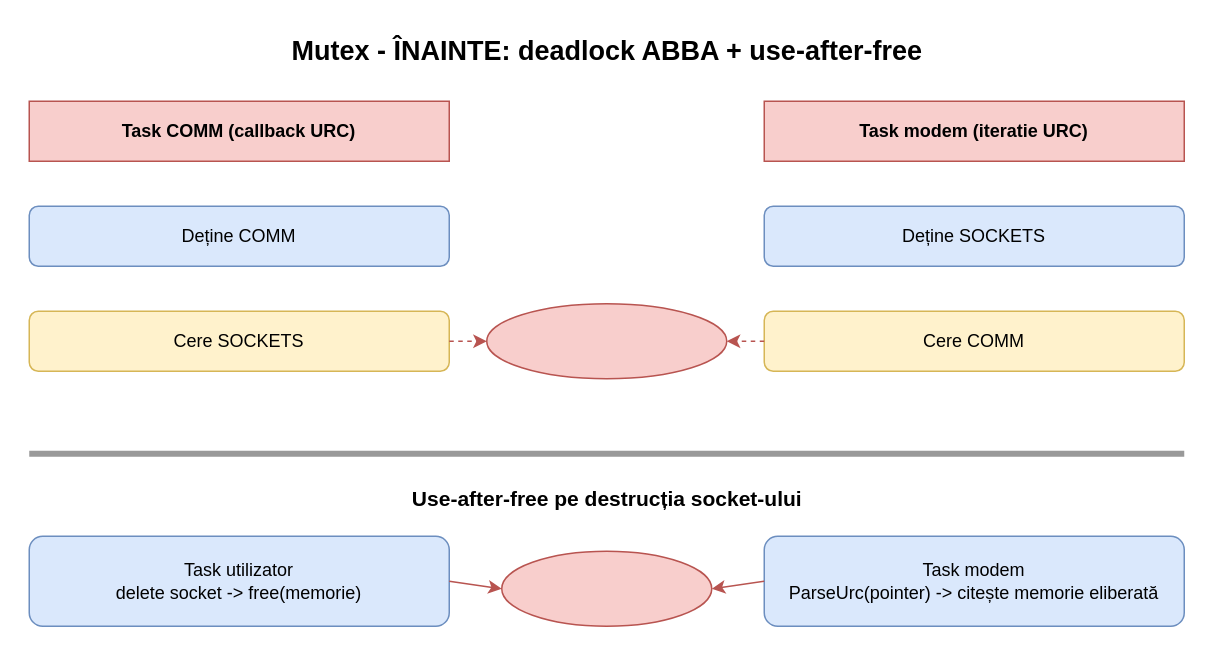
Image size: 1212x653. Some labels were removed from this diagram. The shapes that lost their labels are listed below. From the top down, each one's centre as x and y in pixels, then its label:
the point at 606,340: X DEADLOCK ABBA X
the point at 606,588: USE-AFTER-FREE
